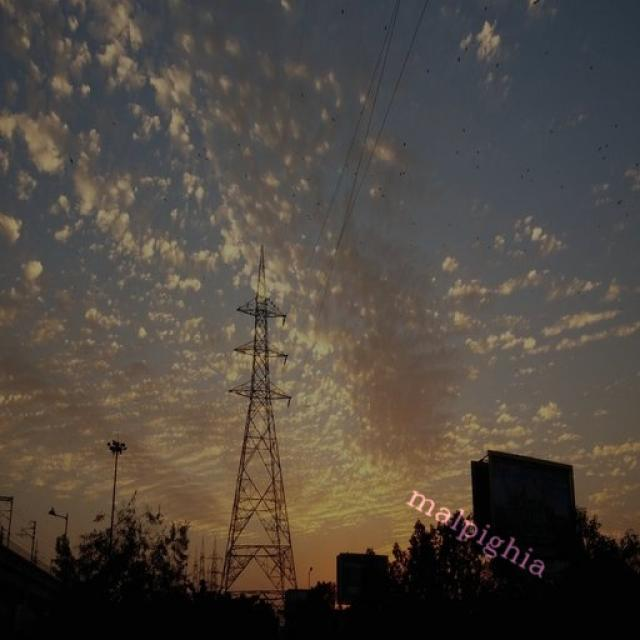watermark: (397, 478, 563, 582)
